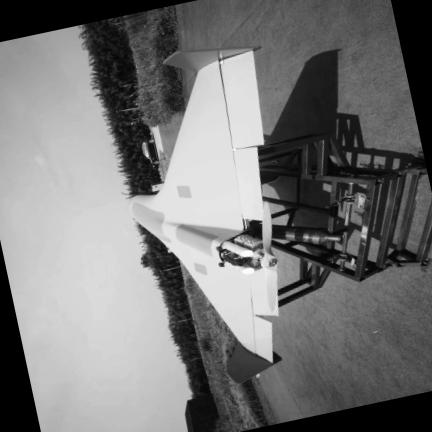Shahed: (127, 45, 284, 384)
